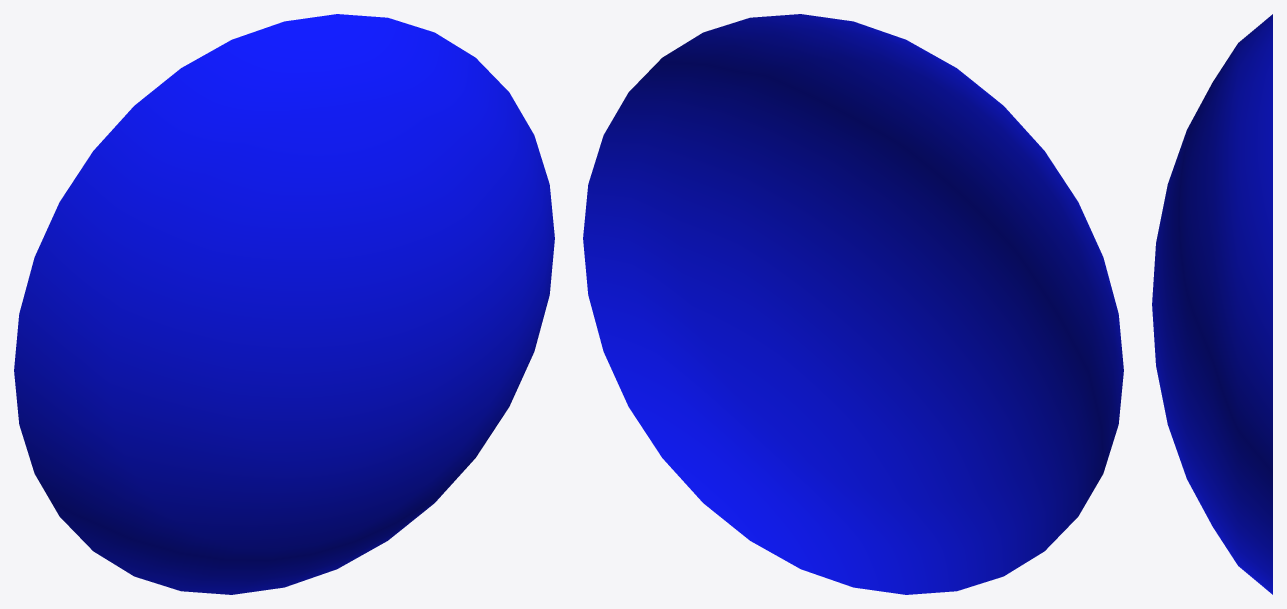
Rendered from blueon.glb.
The picture shows the model from 3 angles, left to right: view 1: azimuth 30°, elevation 25°; view 2: azimuth 150°, elevation 25°; view 3: azimuth 270°, elevation 25°; orthographic projection. The views are drawn at different scales.
Parts seen in each view (by area): view 1: Sphere.007; view 2: Sphere.007; view 3: Sphere.007.
Boxes of the visible parts, x1,y1,x2,y2 form: Sphere.007: [14, 14, 554, 594]; Sphere.007: [583, 14, 1123, 594]; Sphere.007: [1152, 14, 1272, 594].
Size of the model in its own units: 0.2432 by 0.2432 by 0.0506.
